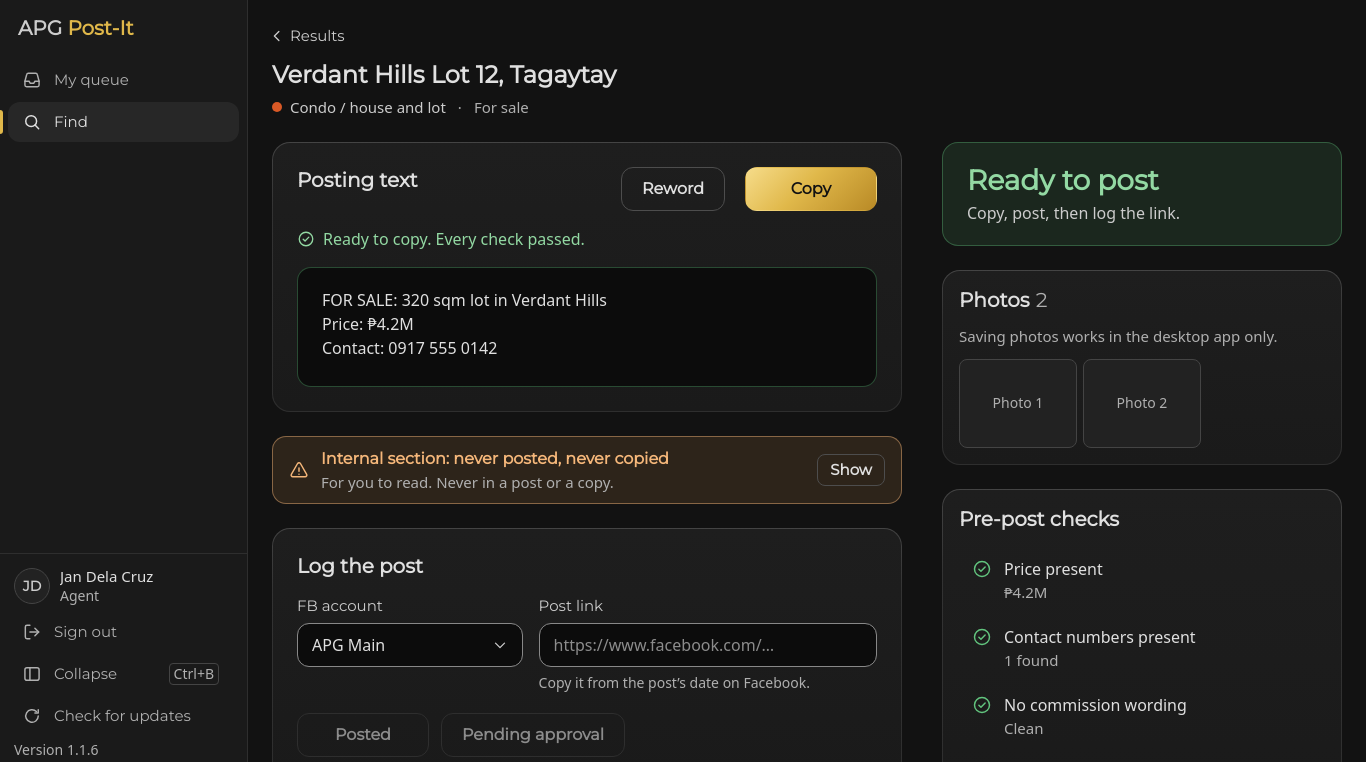
Scenario: rewording with Claude › says why when the hub's limit is reached, and the original stays
This screenshot has width=1366, height=762.
Check: the text "Ready to copy. Every check passed." is shown, box left=323, top=227, right=585, bottom=251
Click the button "Reword". click: (673, 189)
box: left=621, top=167, right=725, bottom=211
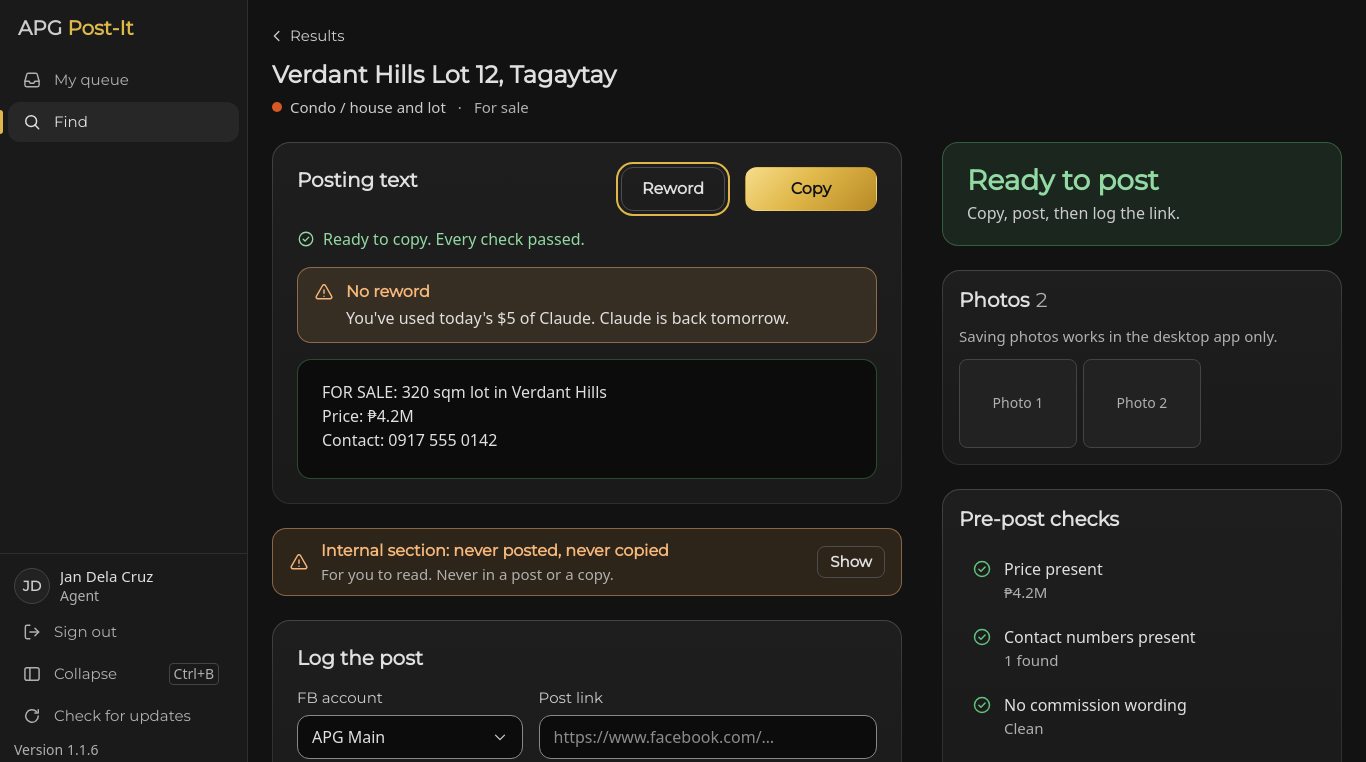
Check: the button "Copy" is enabled, box left=745, top=167, right=877, bottom=211
Check: the text "You've used today's $5 of Claude. Claude is back tomorrow." is shown, box left=346, top=306, right=848, bottom=330
